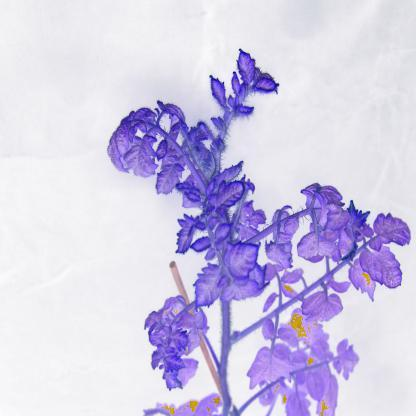Tomato leaf: (224, 235, 266, 286), (370, 209, 412, 256), (355, 246, 402, 288), (191, 262, 221, 314), (150, 158, 183, 198), (211, 178, 246, 210), (233, 39, 256, 86), (172, 216, 198, 255), (136, 131, 158, 177), (162, 363, 185, 397), (254, 73, 284, 96), (165, 324, 190, 348), (134, 102, 156, 124), (164, 352, 188, 370)
